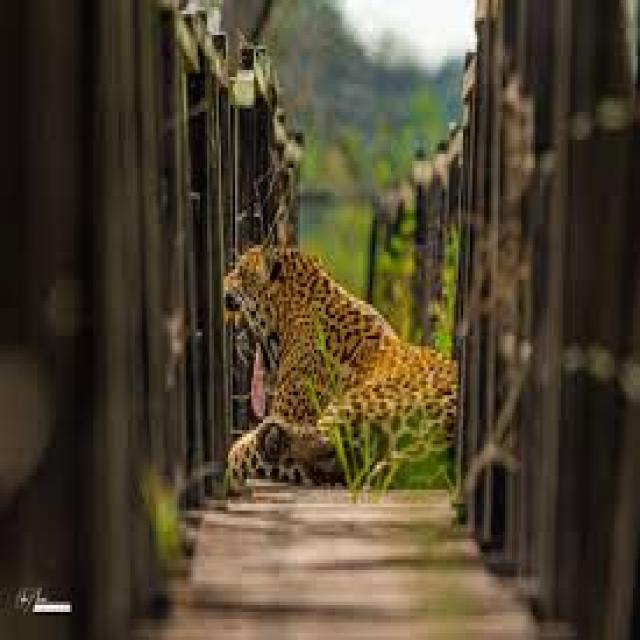Jaguar: (223, 241, 454, 497)
